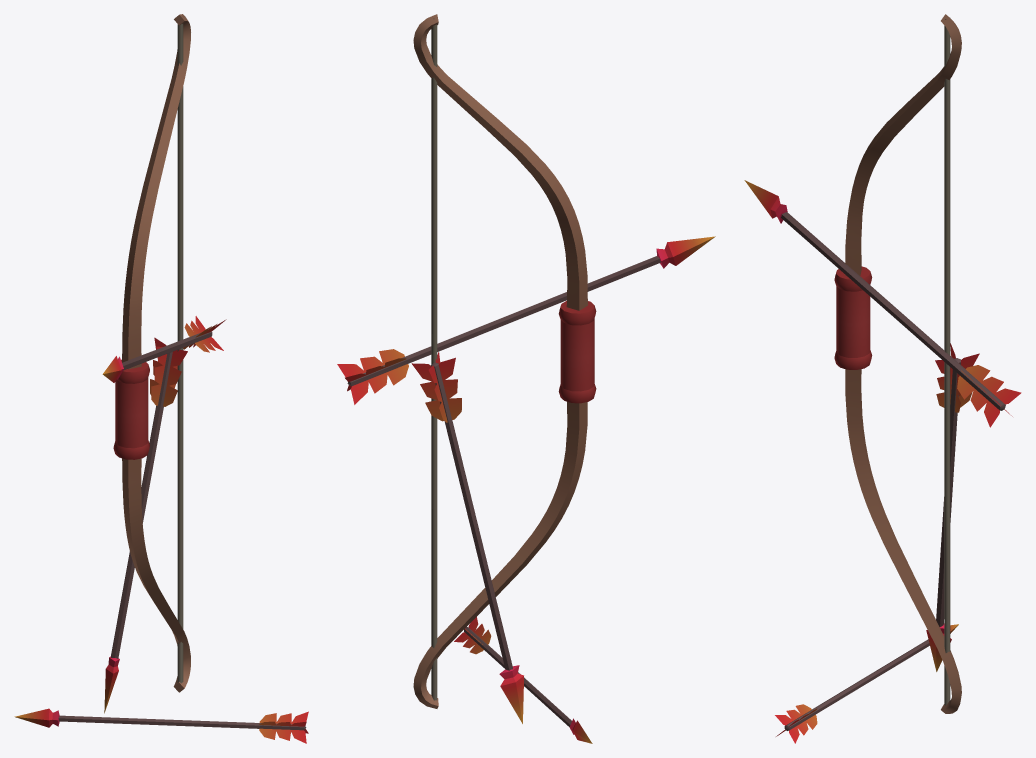
Rendered from OBJ_BowAndFireArrows.fbx.
3 views of the same model, side by side, from view 1: azimuth 30°, elevation 25°; view 2: azimuth 150°, elevation 25°; view 3: azimuth 270°, elevation 25° (orthographic). The views are drawn at different scales.
Parts seen in each view (by area): view 1: OBJ_BowAndFireArrows; view 2: OBJ_BowAndFireArrows; view 3: OBJ_BowAndFireArrows.
Boxes of the visible parts, x1,y1,x2,y2 form: OBJ_BowAndFireArrows: (14,14,308,743); OBJ_BowAndFireArrows: (337,14,715,743); OBJ_BowAndFireArrows: (744,14,1021,743).
Bounding box in the file's own units: 62.05 × 163 × 58.51.
